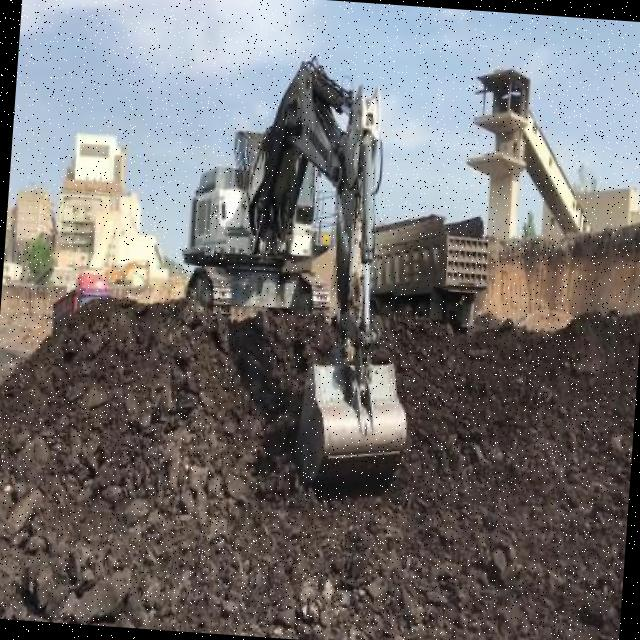Dump Truck: (373, 215, 493, 332)
Excavator: (164, 42, 436, 490)
